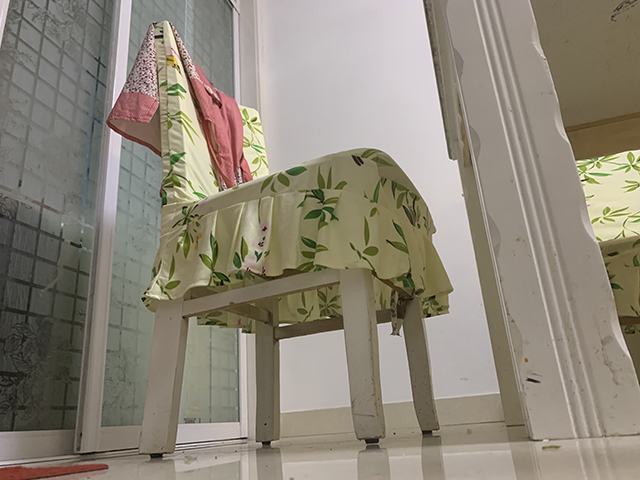carpet: (1, 458, 111, 480)
stool: (106, 20, 442, 458)
